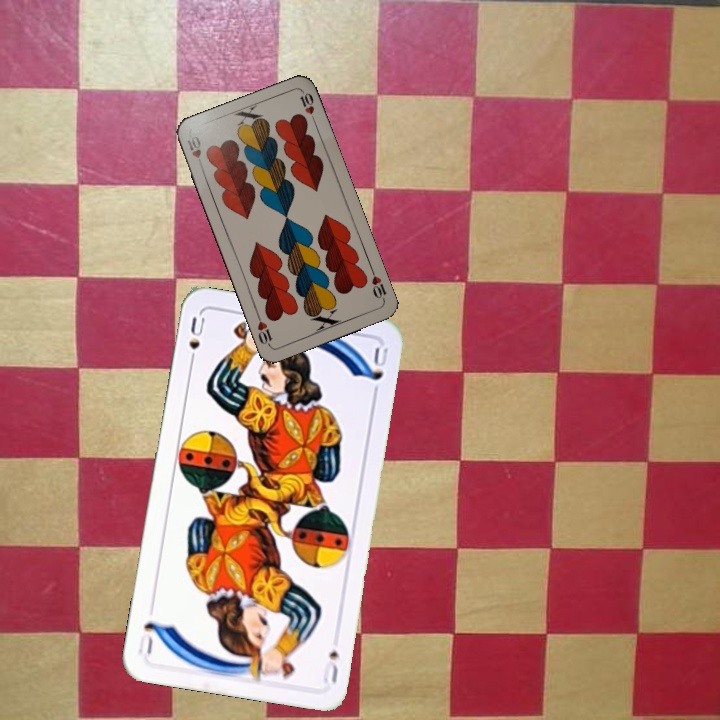H10: (183, 132, 206, 171), (367, 265, 389, 304)
SU: (185, 311, 208, 370), (319, 646, 341, 686)
